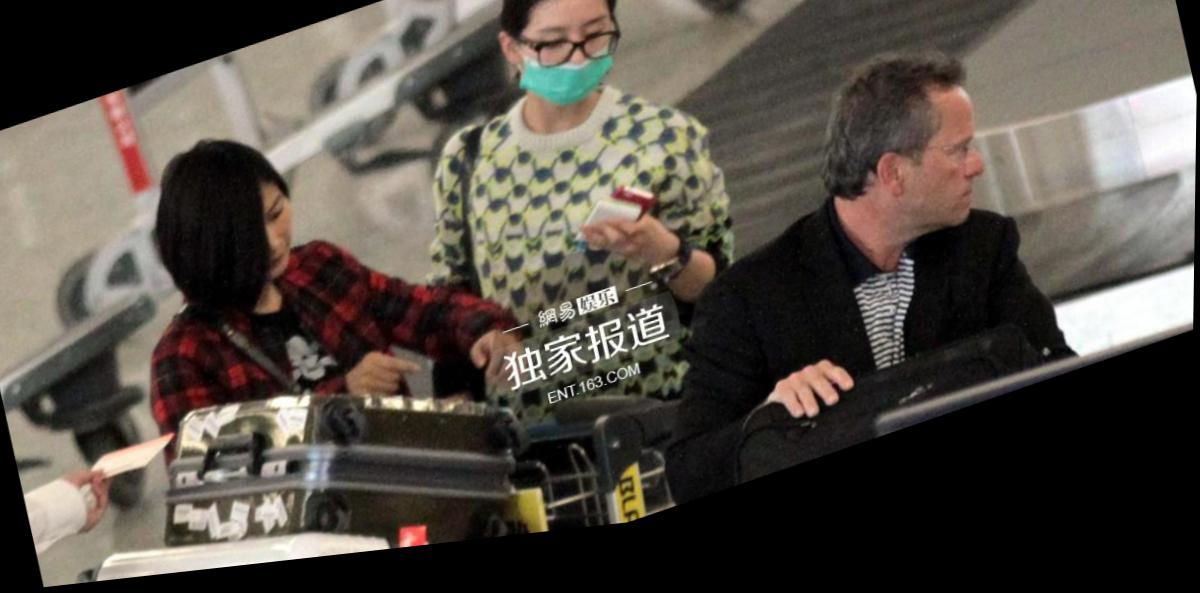NONE: (916, 129, 1002, 259), (220, 179, 311, 301)
WRONG: (505, 1, 626, 130)
